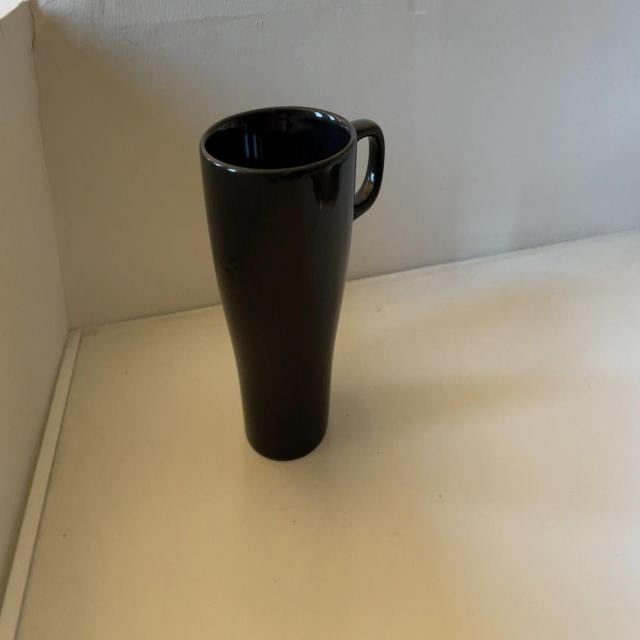cup: (198, 102, 384, 463)
